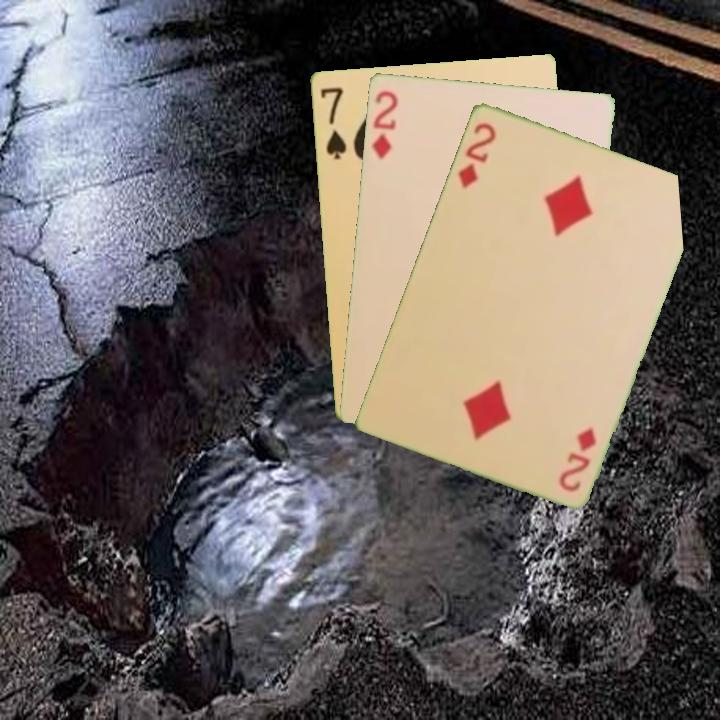2d: (454, 118, 499, 191), (555, 422, 599, 494), (368, 87, 400, 162)
7s: (316, 83, 349, 162)
